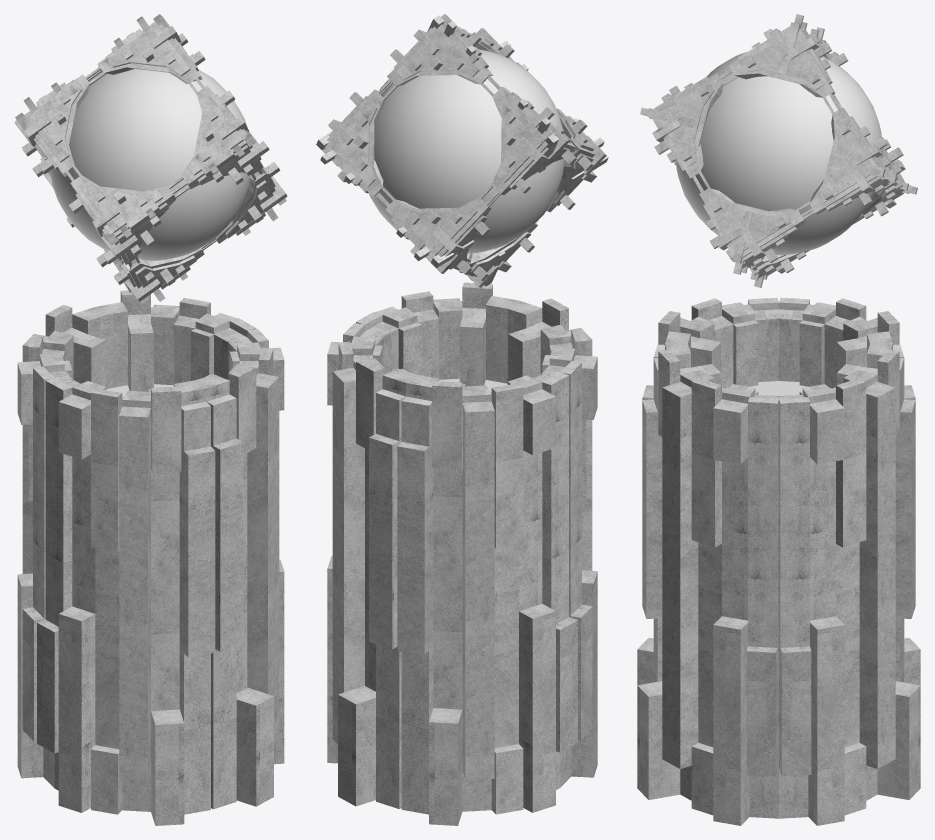
The model's file is Artifact.fbx.
The picture shows the model from 3 angles, left to right: view 1: azimuth 30°, elevation 25°; view 2: azimuth 150°, elevation 25°; view 3: azimuth 270°, elevation 25°; orthographic projection. The views are drawn at different scales.
Parts seen in each view (by area): view 1: Cylinder, Cube, Sphere; view 2: Cylinder, Cube, Sphere; view 3: Cylinder, Cube, Sphere.
Part boxes in pixels (<box>): Cylinder: <box>17,290,284,825</box>; Cube: <box>14,14,287,303</box>; Sphere: <box>50,69,250,260</box>; Cylinder: <box>327,282,597,825</box>; Cube: <box>316,14,608,287</box>; Sphere: <box>368,49,564,253</box>; Cylinder: <box>637,297,920,825</box>; Cube: <box>640,14,917,287</box>; Sphere: <box>675,52,883,255</box>.
Bounding box in the file's own units: 56.06 × 172 × 58.16.
